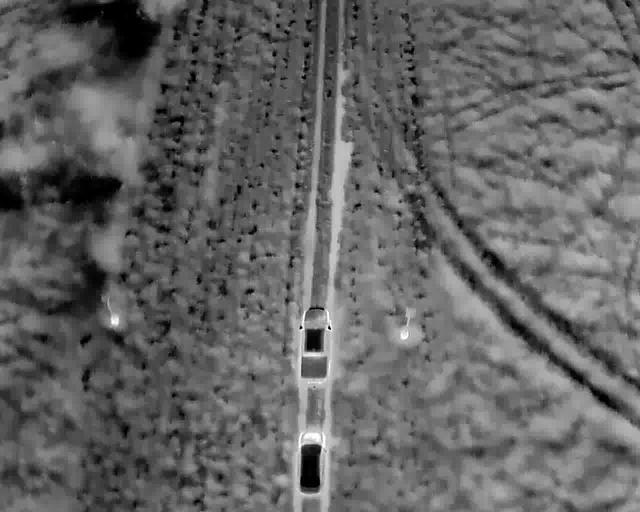car: (299, 306, 332, 389), (296, 430, 328, 497)
